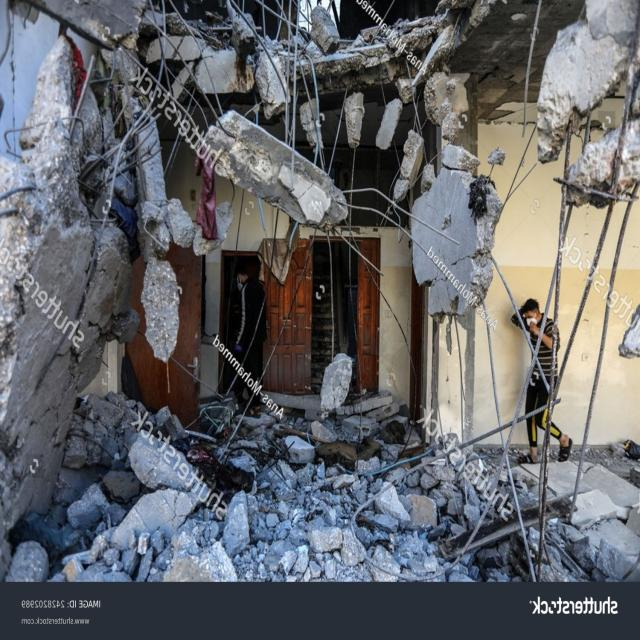Destroyed_building: (0, 0, 636, 584)
